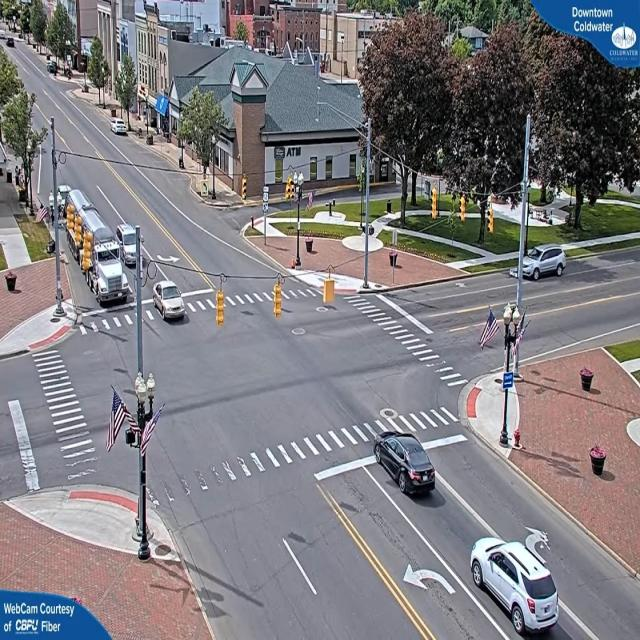car: (472, 536, 562, 637), (375, 435, 437, 497), (522, 244, 568, 280), (152, 281, 186, 323), (118, 223, 144, 270), (112, 122, 130, 138)
truck: (84, 242, 133, 306)
